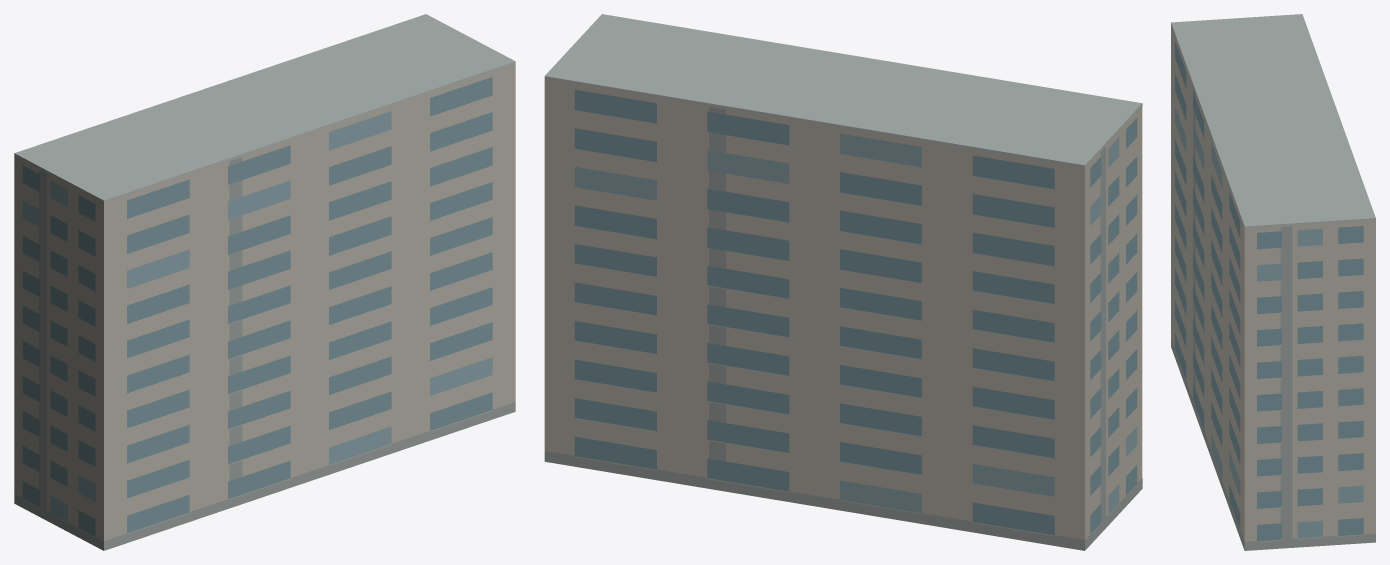
Rendered from residential-a8e74a94-d712-44ca-84af-f6807a506d1d.glb.
3 views of the same model, side by side, from view 1: azimuth 30°, elevation 25°; view 2: azimuth 150°, elevation 25°; view 3: azimuth 270°, elevation 25° (orthographic). The views are drawn at different scales.
Parts seen in each view (by area): view 1: residential-a8e74a94-d712-44ca-84af-f6807a506d1d.tmp; view 2: residential-a8e74a94-d712-44ca-84af-f6807a506d1d.tmp; view 3: residential-a8e74a94-d712-44ca-84af-f6807a506d1d.tmp.
Part boxes in pixels (x1,y1,x2,y2): residential-a8e74a94-d712-44ca-84af-f6807a506d1d.tmp: (14,14,515,550); residential-a8e74a94-d712-44ca-84af-f6807a506d1d.tmp: (544,14,1142,550); residential-a8e74a94-d712-44ca-84af-f6807a506d1d.tmp: (1171,14,1375,550).
Bounding box in the file's own units: 39.33 × 28 × 16.03.
